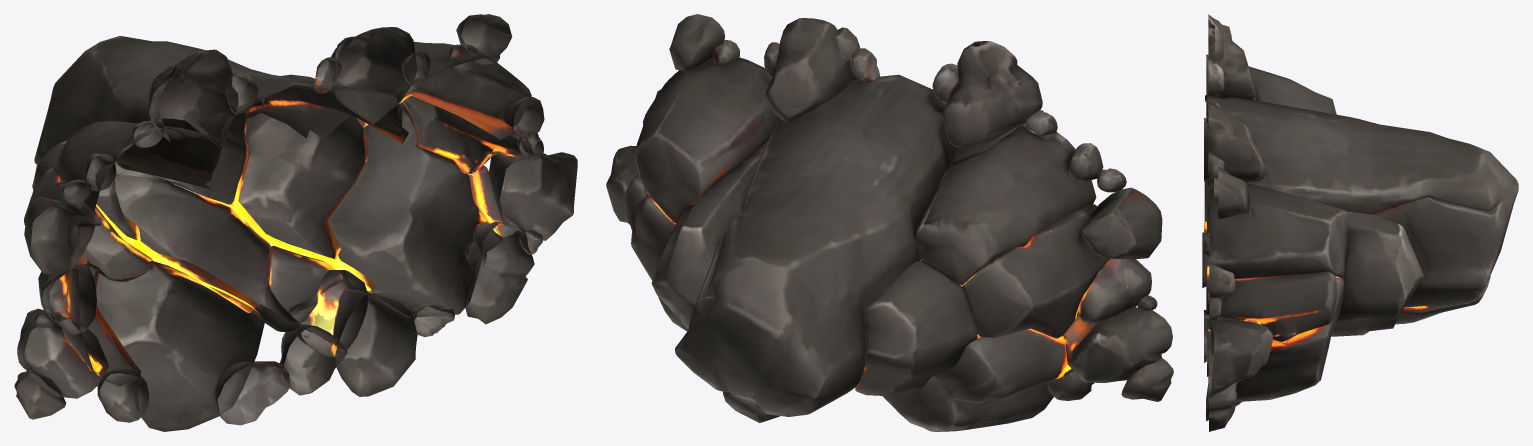
3 views of the same model, side by side, from view 1: azimuth 30°, elevation 25°; view 2: azimuth 150°, elevation 25°; view 3: azimuth 270°, elevation 25° (orthographic). The views are drawn at different scales.
Visible parts, largest first — view 1: SM_Tripo_ZhurongBoulders_LOD0; view 2: SM_Tripo_ZhurongBoulders_LOD0; view 3: SM_Tripo_ZhurongBoulders_LOD0.
Boxes of the visible parts, x1=… form: SM_Tripo_ZhurongBoulders_LOD0: x1=14, y1=14, x2=577, y2=431; SM_Tripo_ZhurongBoulders_LOD0: x1=606, y1=14, x2=1173, y2=431; SM_Tripo_ZhurongBoulders_LOD0: x1=1202, y1=14, x2=1518, y2=431.
Size of the model in its own units: 7.02 by 4.57 by 4.
Materials: 1 (1 with a texture image).
